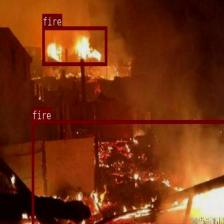fire: (31, 119, 223, 224), (42, 26, 107, 66)
